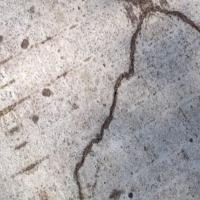crack: (65, 0, 197, 199)
